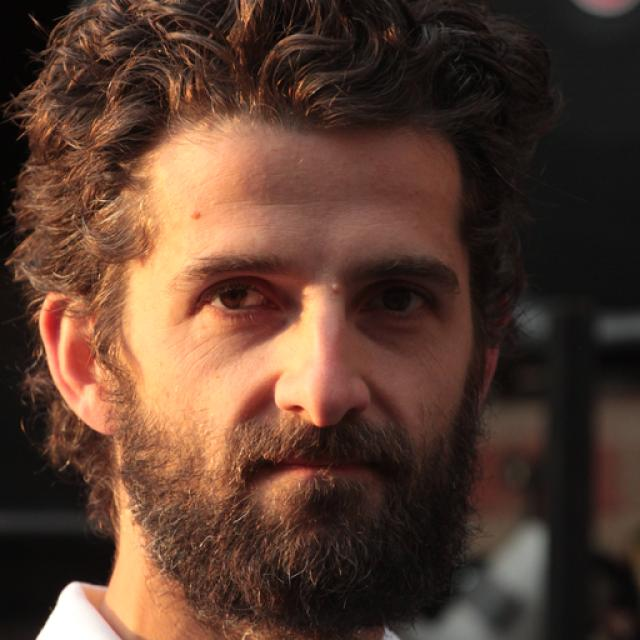Acne: (326, 276, 350, 298), (182, 204, 201, 223)
